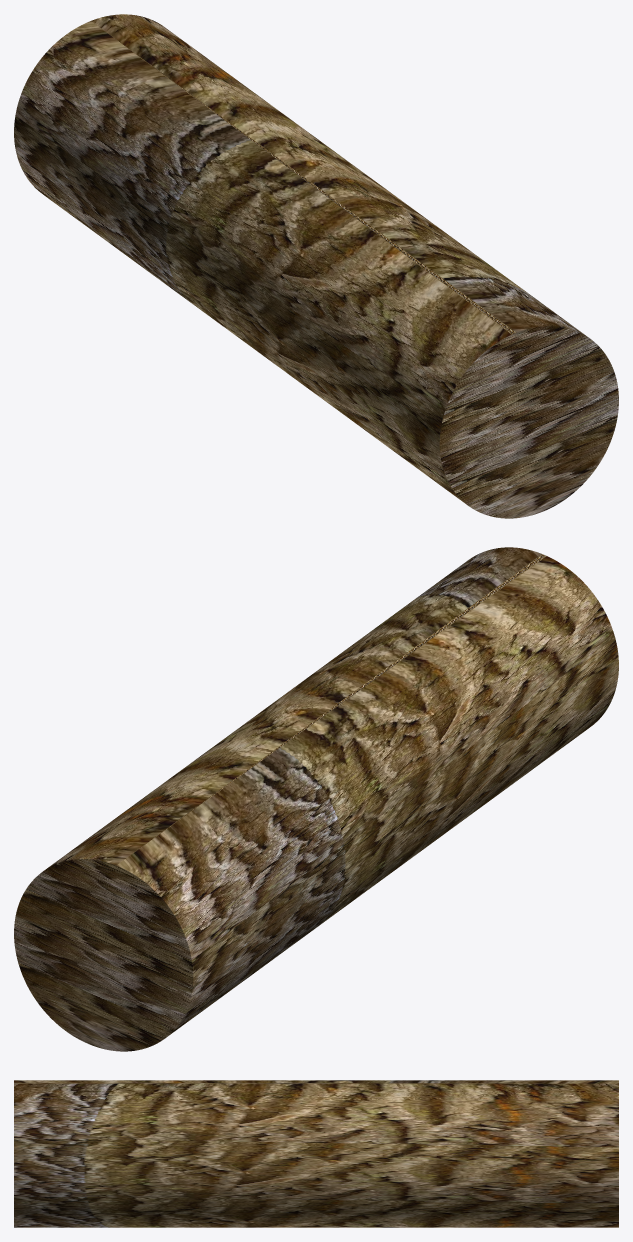
Rendered from Basic_Log.obj.
The picture shows the model from 3 angles, top to bottom: view 1: azimuth 30°, elevation 25°; view 2: azimuth 150°, elevation 25°; view 3: azimuth 270°, elevation 25°; orthographic projection. The views are drawn at different scales.
Visible parts, largest first — view 1: Cylinder_Cylinder.001; view 2: Cylinder_Cylinder.001; view 3: Cylinder_Cylinder.001.
Boxes of the visible parts, left/top/right/bottom form: Cylinder_Cylinder.001: left=14, top=14, right=618, bottom=518; Cylinder_Cylinder.001: left=14, top=547, right=618, bottom=1051; Cylinder_Cylinder.001: left=14, top=1080, right=618, bottom=1227.
Size of the model in its own units: 2 by 2 by 8.23.
Materials: 1 (1 with a texture image).
